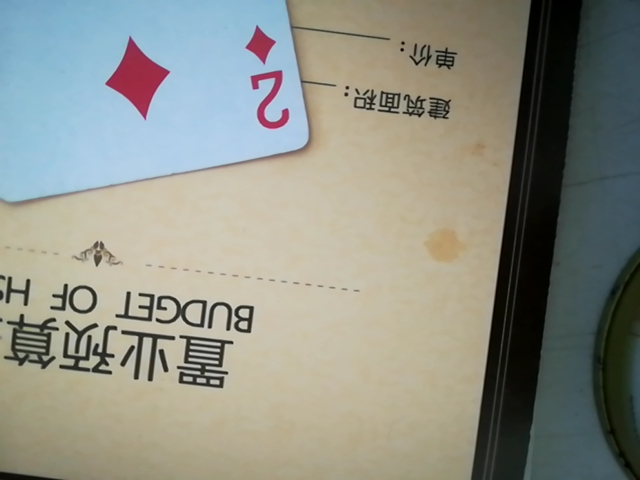fk 2: (0, 0, 314, 215)
